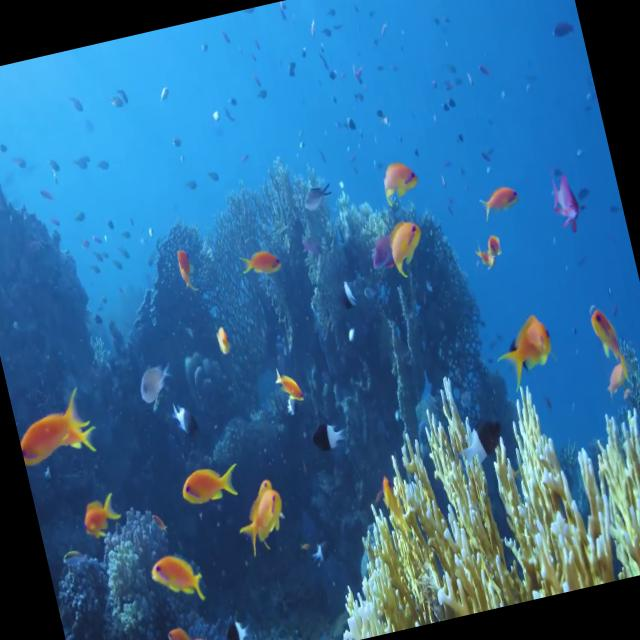fish: (8, 372, 100, 462), (487, 308, 564, 394), (142, 526, 212, 620), (170, 444, 245, 520), (583, 286, 640, 376), (229, 480, 296, 556), (378, 210, 432, 287), (468, 168, 531, 232), (544, 157, 592, 235), (73, 485, 131, 544), (374, 150, 424, 208), (594, 345, 640, 404), (234, 233, 286, 284), (167, 237, 207, 302), (266, 356, 312, 412), (206, 310, 243, 372), (468, 228, 512, 275)
